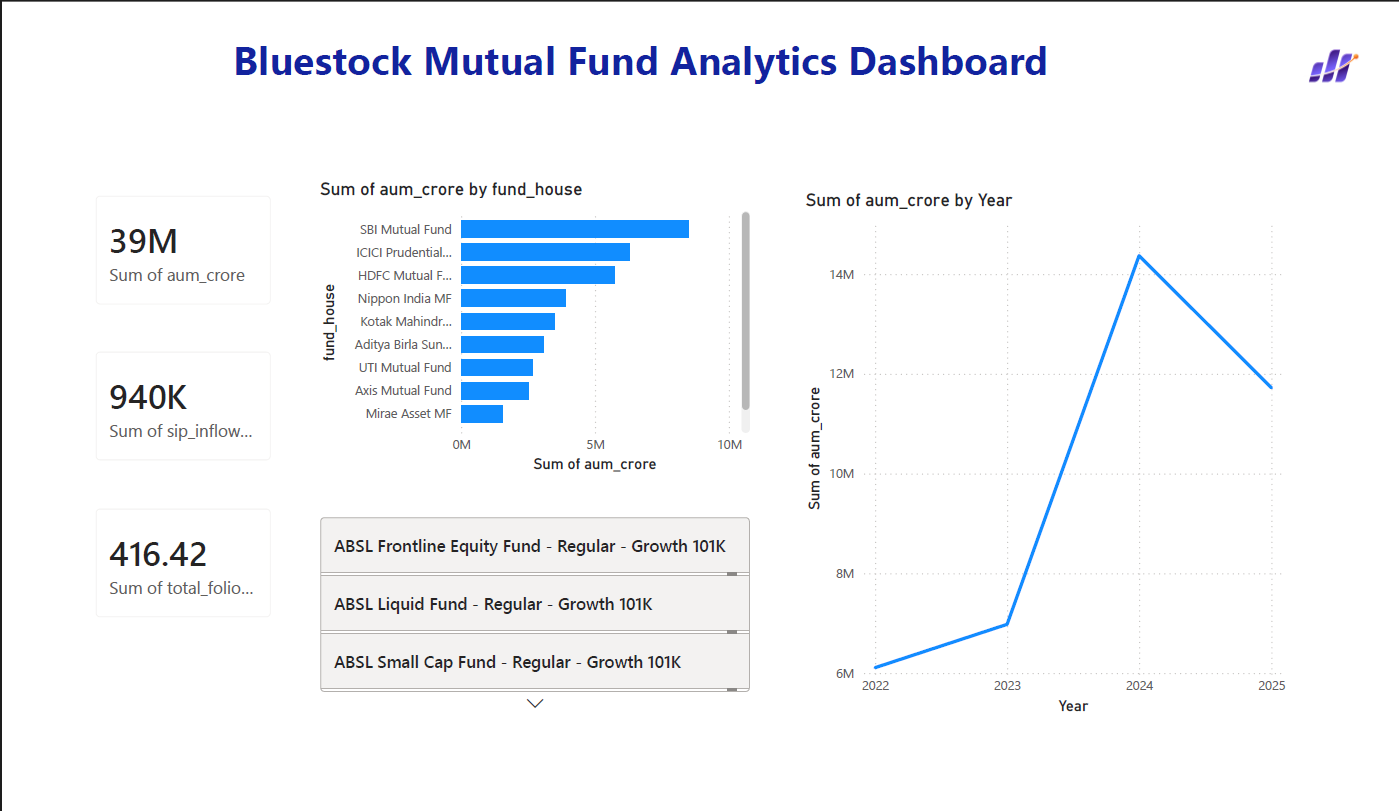

The page's visual inventory and layout, read from the dashboard file:
{"tool":"powerbi","page":{"name":"Industry Overview","canvas":[1280,720],"ordinal":0},"visuals":[{"type":"textbox","box":[30,0,1105,92],"z":0},{"type":"cardVisual","fields":{"Data":["Sum(aum_by_fund_house_clean.aum_crore)"]},"box":[48,143,200,137],"z":1000},{"type":"cardVisual","fields":{"Data":["Sum(monthly_sip_inflows_clean.sip_inflow_crore)"]},"box":[48,291,200,137],"z":2000},{"type":"cardVisual","fields":{"Data":["Sum(industry_folio_count_clean.total_folios_crore)"]},"box":[48,440,200,137],"z":3000},{"type":"cardVisual","fields":{"Rows":["fund_master_clean.scheme_name","fund_master_clean.amfi_code"]},"box":[273,440,418,217],"z":4000},{"type":"lineChart","fields":{"Category":["aum_by_fund_house_clean.date.Variation.Date Hierarchy.Year","aum_by_fund_house_clean.date.Variation.Date Hierarchy.Quarter","aum_by_fund_house_clean.date.Variation.Date Hierarchy.Month","aum_by_fund_house_clean.date.Variation.Date Hierarchy.Day"],"Y":["Sum(aum_by_fund_house_clean.aum_crore)"]},"box":[734,154,465,503],"z":5000},{"type":"barChart","fields":{"Category":["aum_by_fund_house_clean.fund_house"],"Y":["Sum(aum_by_fund_house_clean.aum_crore)"]},"box":[273,143,418,285],"z":6000},{"type":"image","box":[1210,0,60,74],"z":6001}]}

Visuals, with their boxes in screenshot pixels (x1, y1, x2, y2), scaled from the page's 1280x720 canvas onto the 1399x811 screenshot:
textbox: select_region(33, 0, 1241, 104)
cardVisual - Sum(aum_by_fund_house_clean.aum_crore): select_region(52, 161, 271, 315)
cardVisual - Sum(monthly_sip_inflows_clean.sip_inflow_crore): select_region(52, 328, 271, 482)
cardVisual - Sum(industry_folio_count_clean.total_folios_crore): select_region(52, 496, 271, 650)
cardVisual - fund_master_clean.scheme_name x fund_master_clean.amfi_code: select_region(298, 496, 755, 740)
lineChart - aum_by_fund_house_clean.date.Variation.Date Hierarchy.Year x aum_by_fund_house_clean.date.Variation.Date Hierarchy.Quarter: select_region(802, 173, 1310, 740)
barChart - aum_by_fund_house_clean.fund_house x Sum(aum_by_fund_house_clean.aum_crore): select_region(298, 161, 755, 482)
image: select_region(1322, 0, 1388, 83)
